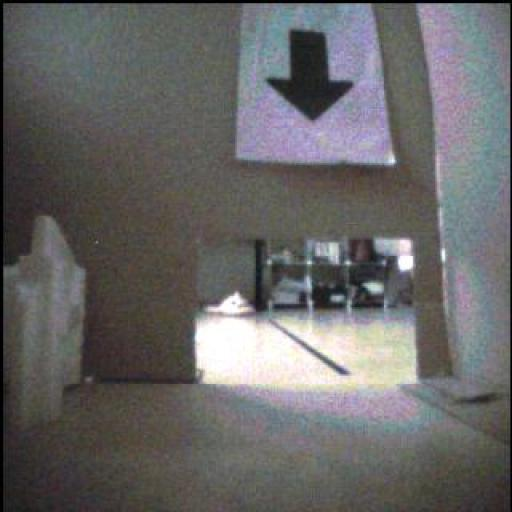arrow: (268, 31, 355, 121)
